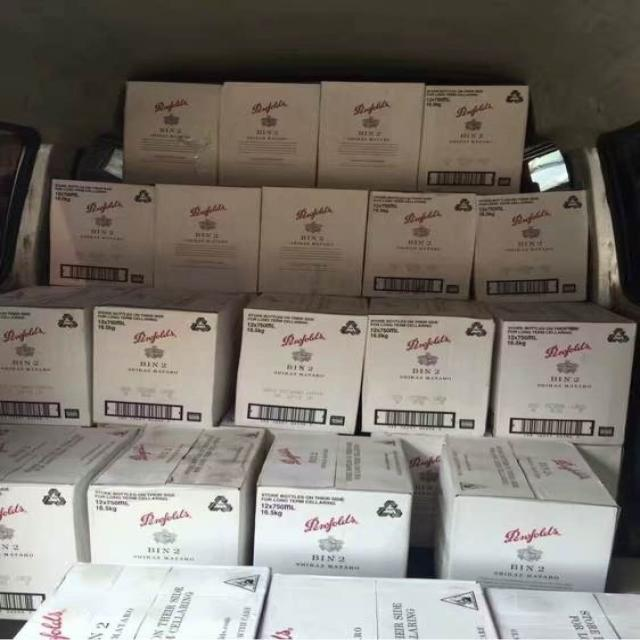box: (432, 436, 620, 593), (0, 424, 139, 620), (87, 425, 271, 567), (253, 431, 415, 579), (483, 300, 637, 445), (92, 287, 248, 427), (10, 564, 270, 640), (0, 284, 139, 426), (235, 293, 368, 433), (362, 298, 495, 437), (257, 575, 501, 640), (475, 189, 590, 301), (362, 191, 477, 299), (418, 86, 530, 195), (151, 184, 261, 294), (259, 187, 368, 297), (315, 82, 424, 191), (50, 180, 154, 286), (219, 82, 321, 188), (125, 81, 221, 185), (486, 589, 640, 640), (403, 436, 446, 552), (575, 445, 625, 501)
